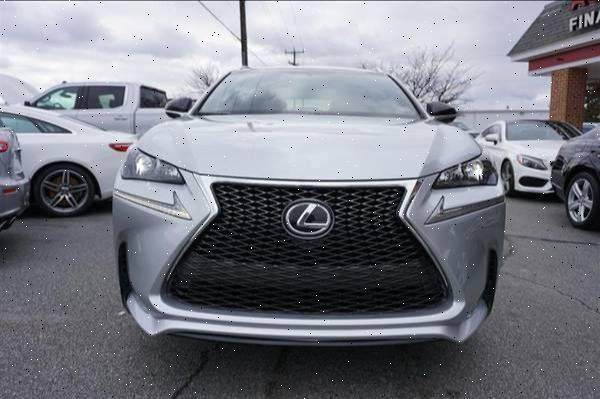Front_Bumper: (115, 166, 224, 334), (399, 175, 506, 328)
Front_Windshield: (191, 68, 426, 119)
Grille: (154, 172, 464, 339)
Hood: (140, 116, 481, 179)
Left_Headlight: (425, 157, 497, 188)
Left_Mirror: (428, 102, 461, 124)
Right_Headlight: (121, 137, 186, 183)
Right_Mirror: (166, 94, 192, 115)
